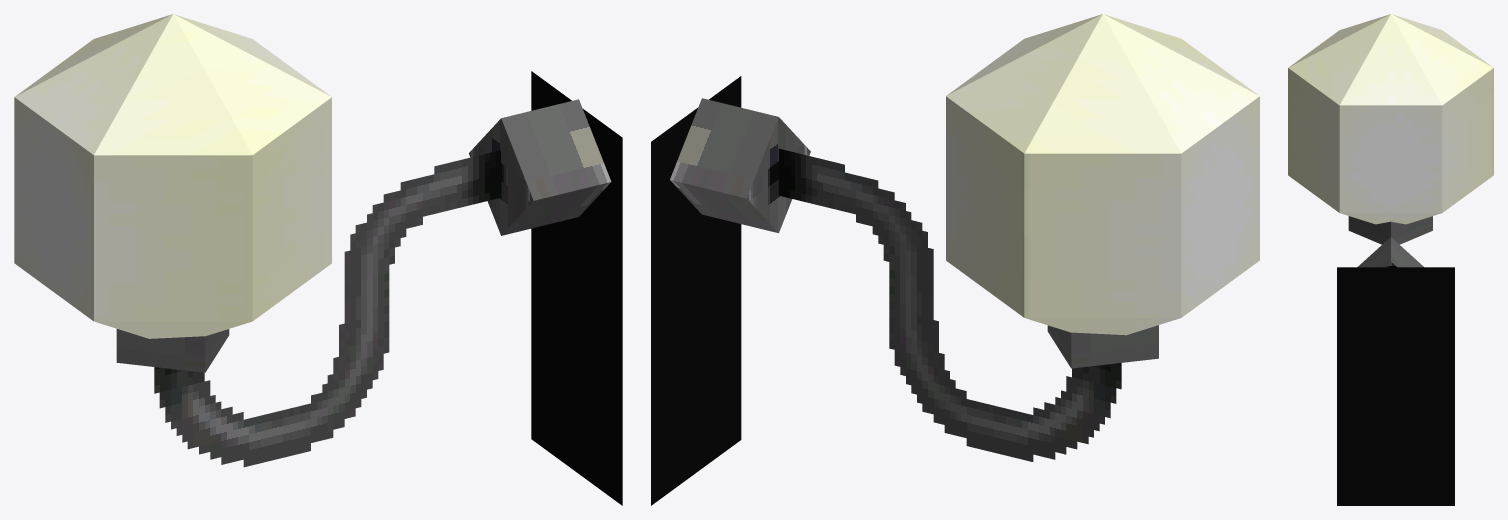
Rendered from sfx_lite04.obj.
The picture shows the model from 3 angles, left to right: view 1: azimuth 30°, elevation 25°; view 2: azimuth 150°, elevation 25°; view 3: azimuth 270°, elevation 25°; orthographic projection. The views are drawn at different scales.
Visible parts, largest first — view 1: sfx_lite04; view 2: sfx_lite04; view 3: sfx_lite04.
Part boxes in pixels (bbox=[...]): sfx_lite04: bbox=[14, 14, 622, 505]; sfx_lite04: bbox=[651, 14, 1259, 505]; sfx_lite04: bbox=[1288, 14, 1493, 505].
Size of the model in its own units: 0.5789 by 0.5891 by 0.3024.
Materials: 3 (3 with a texture image).
